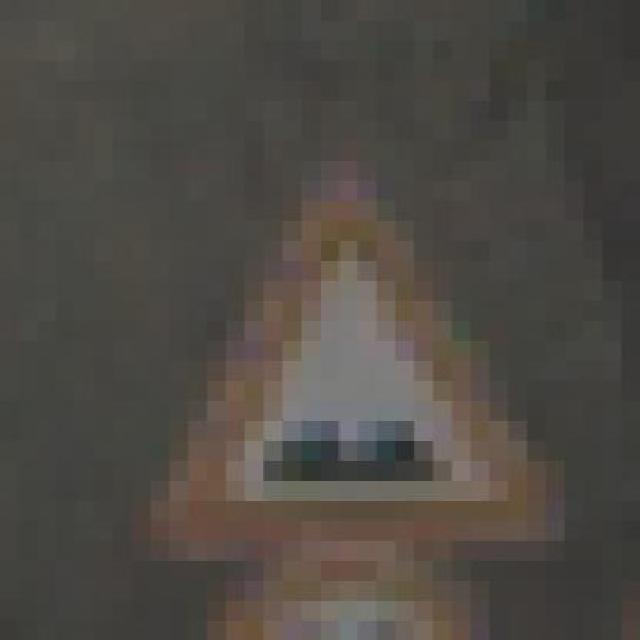Uneven Road: (150, 160, 584, 560)
